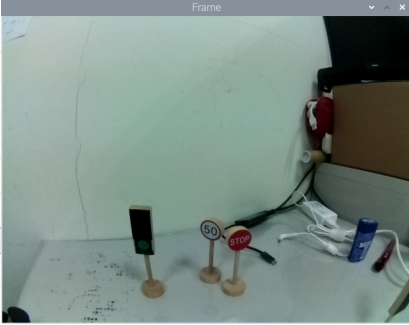Green: (127, 204, 159, 257)
Speed50: (197, 218, 223, 242)
Stop: (224, 225, 253, 254)
